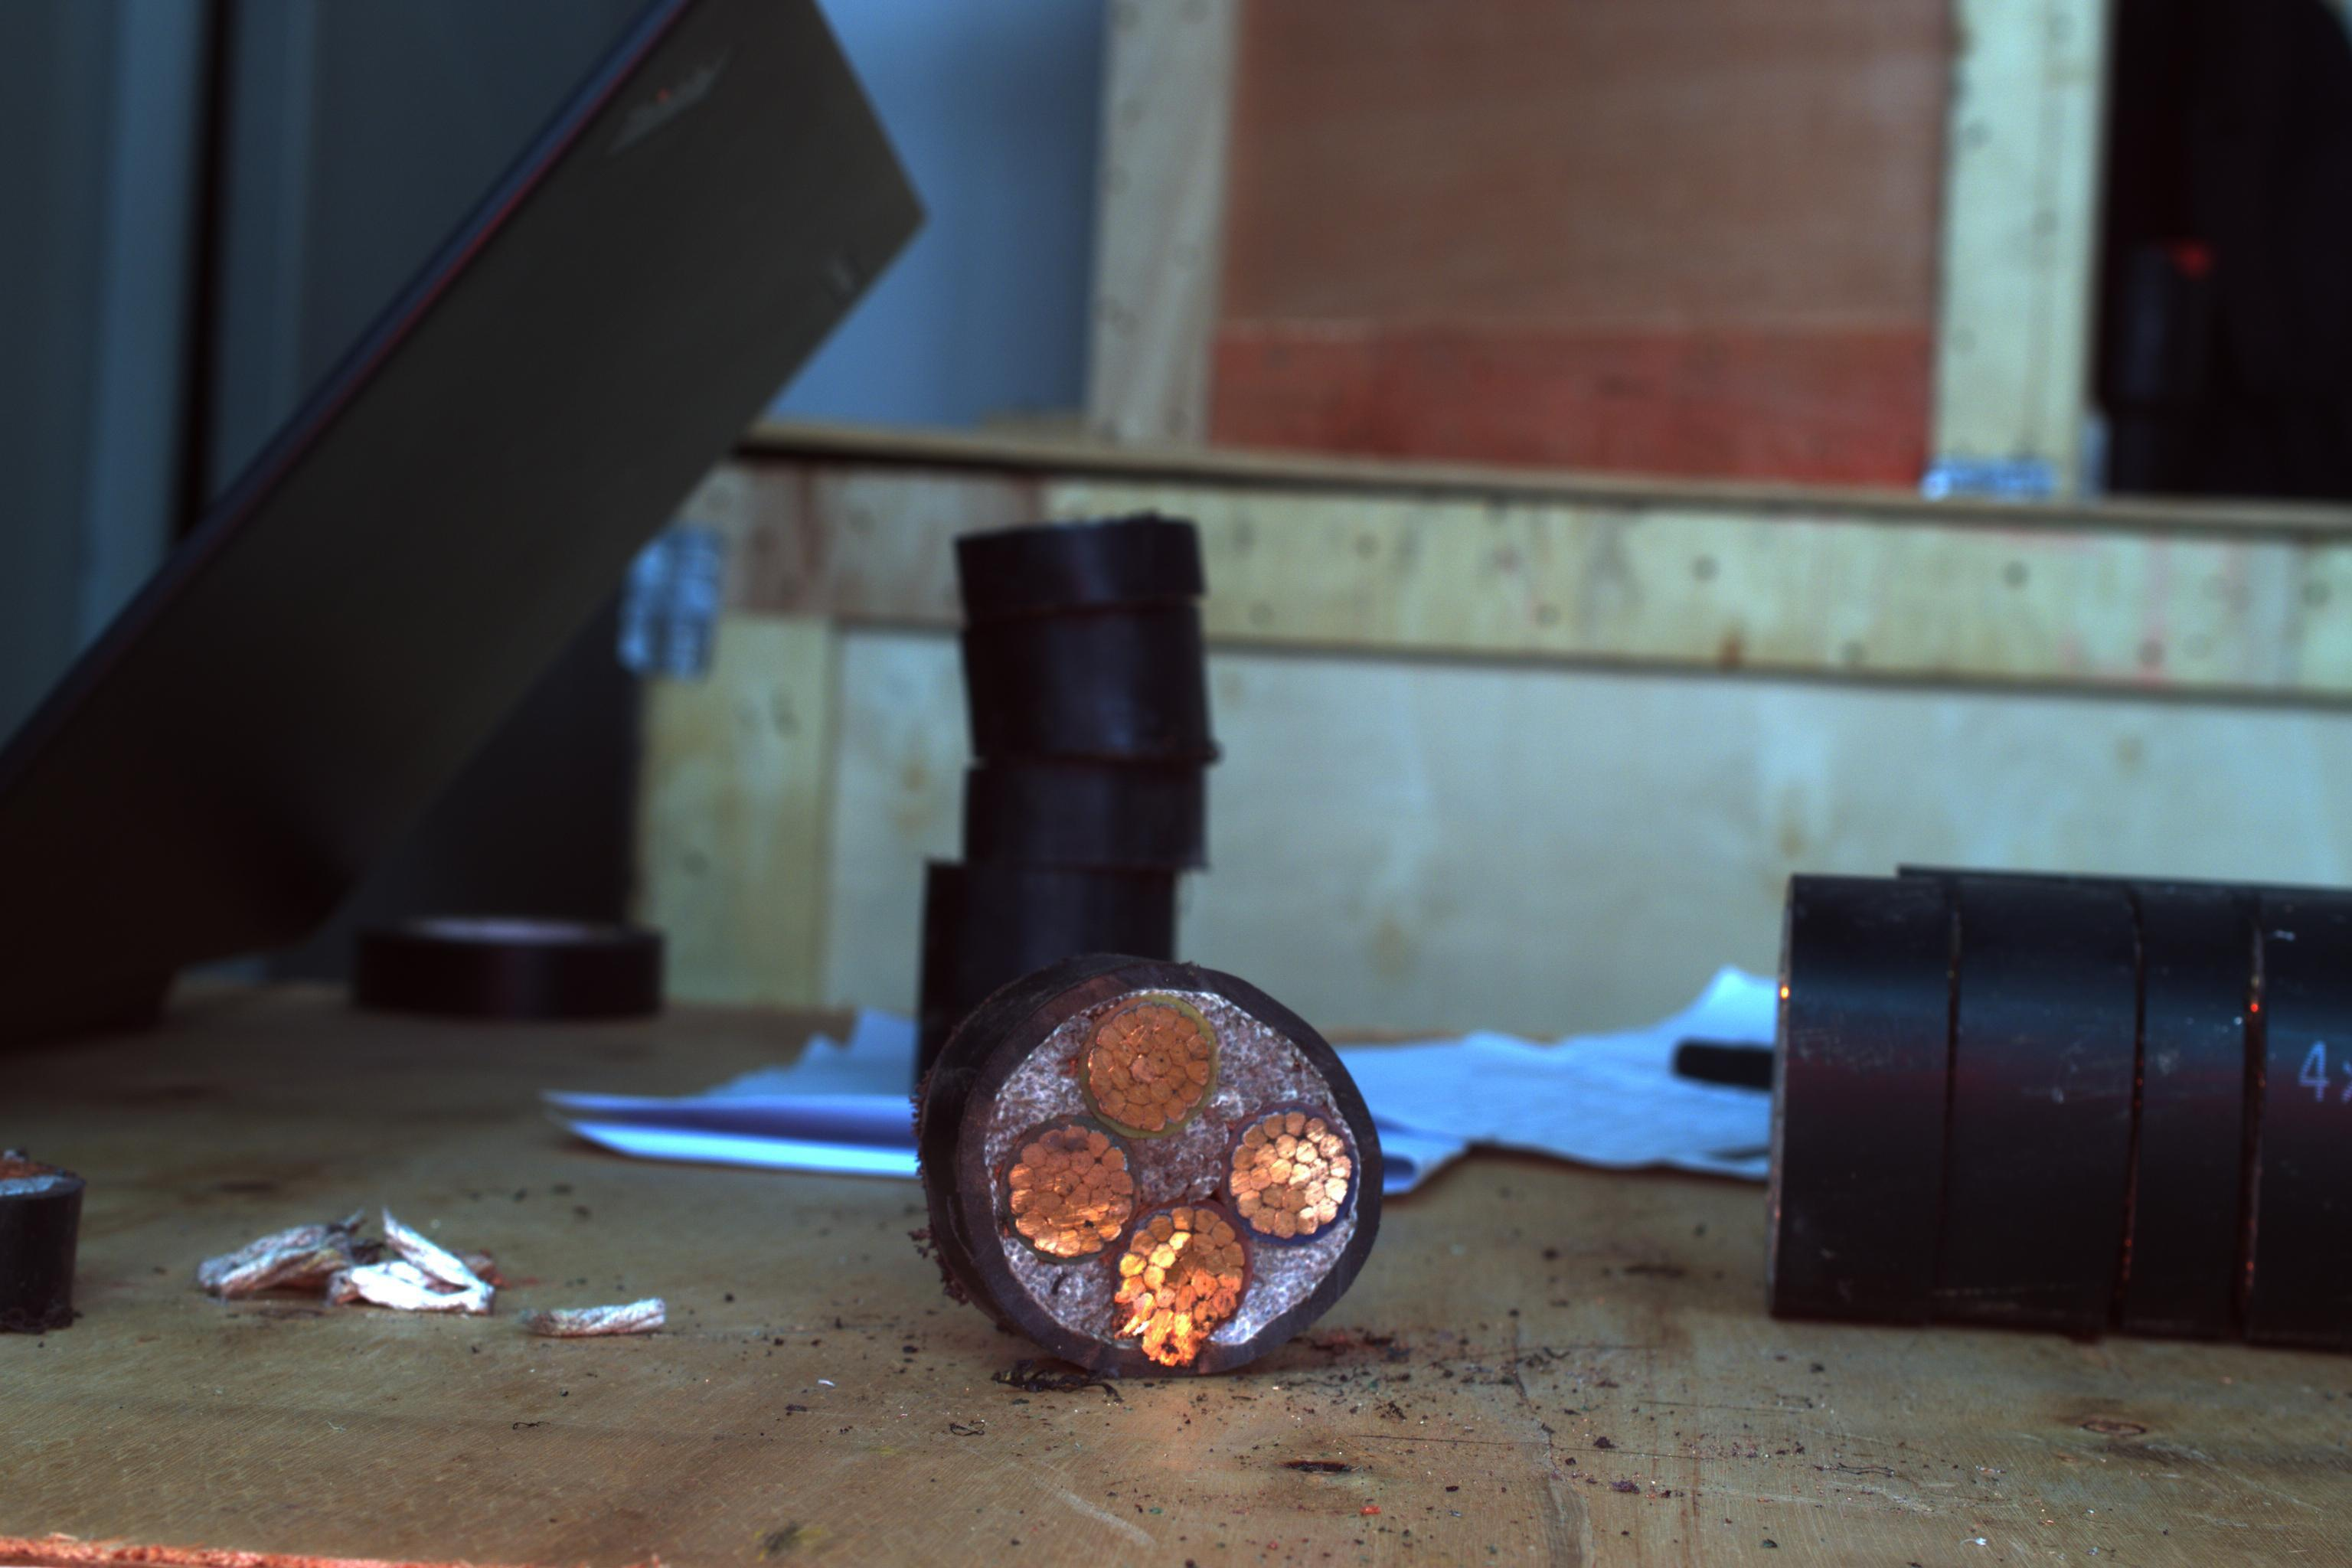YJV_0.6_1kV_4x120: (929, 964, 1388, 1372)
